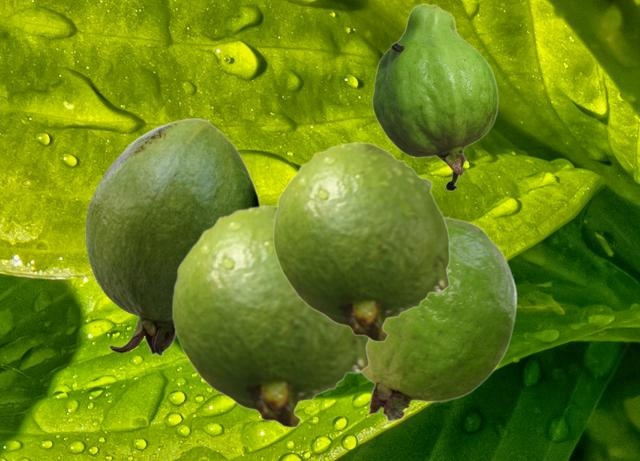guava: (171, 204, 369, 427), (85, 118, 261, 355), (272, 141, 449, 341), (361, 216, 516, 421), (371, 3, 497, 190)
